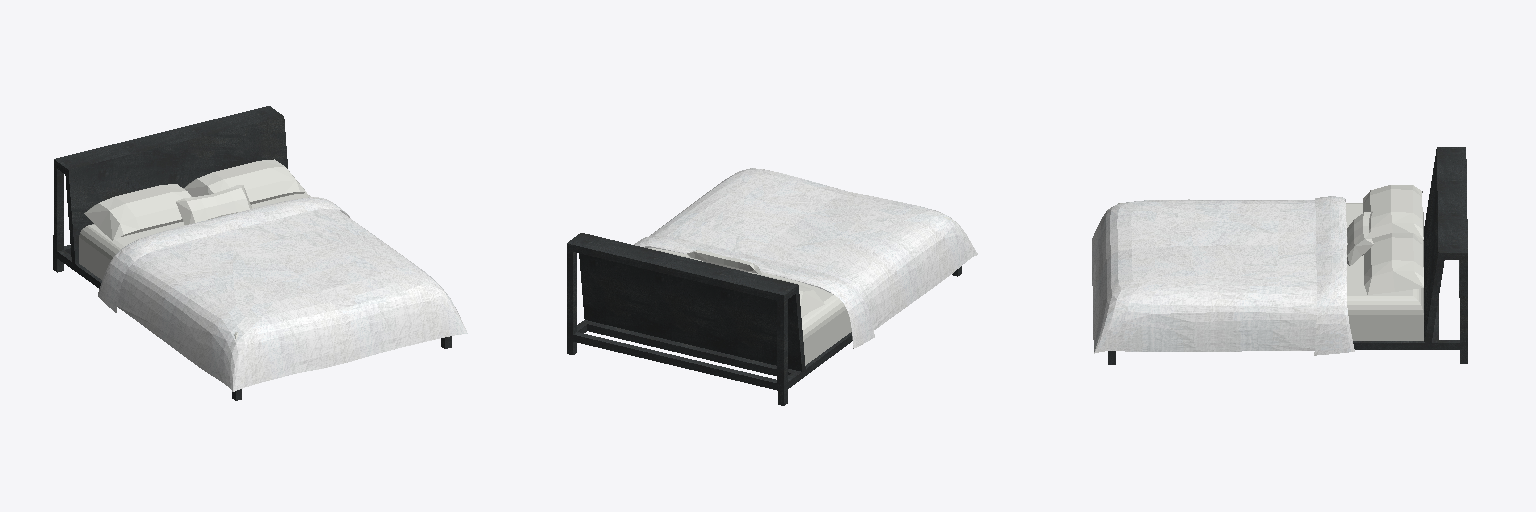
3 renders of one model, left to right at view 1: azimuth 30°, elevation 25°; view 2: azimuth 150°, elevation 25°; view 3: azimuth 270°, elevation 25°, orthographic.
Visible parts, largest first — view 1: Mesh2_Group3_Group1_Model, Mesh6_Group5_Model, Mesh5_Group_9_2_Group1_Model, Mesh4_Group_9_1_Group1_Model, Mesh1_Group2_Group1_Model, Mesh3_Group4_Group1_Model; view 2: Mesh2_Group3_Group1_Model, Mesh6_Group5_Model, Mesh1_Group2_Group1_Model, Mesh3_Group4_Group1_Model, Mesh5_Group_9_2_Group1_Model; view 3: Mesh2_Group3_Group1_Model, Mesh6_Group5_Model, Mesh1_Group2_Group1_Model, Mesh4_Group_9_1_Group1_Model, Mesh5_Group_9_2_Group1_Model, Mesh3_Group4_Group1_Model.
Part boxes in pixels (left/top/right/bottom): Mesh2_Group3_Group1_Model: left=98, top=197, right=467, bottom=391; Mesh6_Group5_Model: left=53, top=106, right=451, bottom=400; Mesh5_Group_9_2_Group1_Model: left=84, top=184, right=191, bottom=240; Mesh4_Group_9_1_Group1_Model: left=183, top=159, right=306, bottom=204; Mesh1_Group2_Group1_Model: left=79, top=193, right=310, bottom=339; Mesh3_Group4_Group1_Model: left=176, top=185, right=251, bottom=224; Mesh2_Group3_Group1_Model: left=634, top=168, right=977, bottom=348; Mesh6_Group5_Model: left=567, top=233, right=961, bottom=405; Mesh1_Group2_Group1_Model: left=644, top=217, right=952, bottom=365; Mesh3_Group4_Group1_Model: left=687, top=250, right=761, bottom=274; Mesh5_Group_9_2_Group1_Model: left=748, top=272, right=824, bottom=315; Mesh2_Group3_Group1_Model: left=1092, top=196, right=1354, bottom=355; Mesh6_Group5_Model: left=1108, top=147, right=1467, bottom=364; Mesh1_Group2_Group1_Model: left=1118, top=203, right=1423, bottom=340; Mesh4_Group_9_1_Group1_Model: left=1364, top=233, right=1423, bottom=294; Mesh5_Group_9_2_Group1_Model: left=1363, top=185, right=1423, bottom=239; Mesh3_Group4_Group1_Model: left=1347, top=211, right=1373, bottom=265.
Size of the model in its own units: 31.41 by 13.46 by 41.41.
Materials: 4 (2 with a texture image).